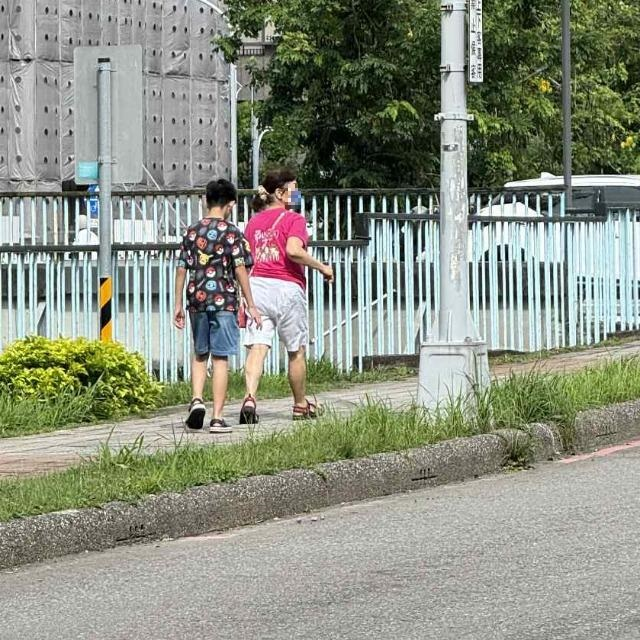NoHelmet: (257, 167, 303, 208), (201, 177, 244, 217)
NoVest: (181, 218, 253, 314)
